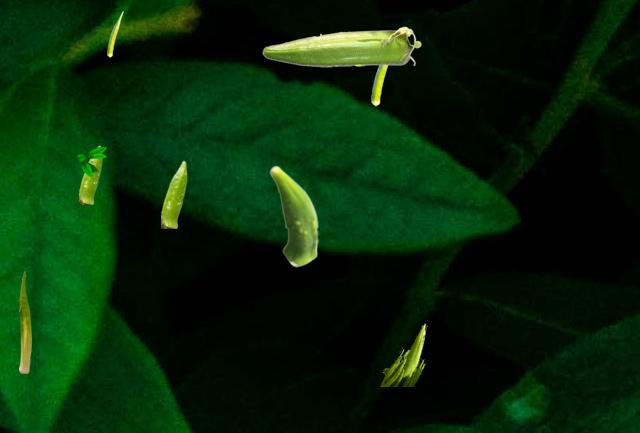okra: (262, 26, 420, 66), (269, 165, 318, 266), (380, 323, 426, 385), (161, 160, 186, 227), (79, 145, 101, 203), (19, 271, 30, 372), (107, 11, 122, 56), (371, 66, 388, 105)
